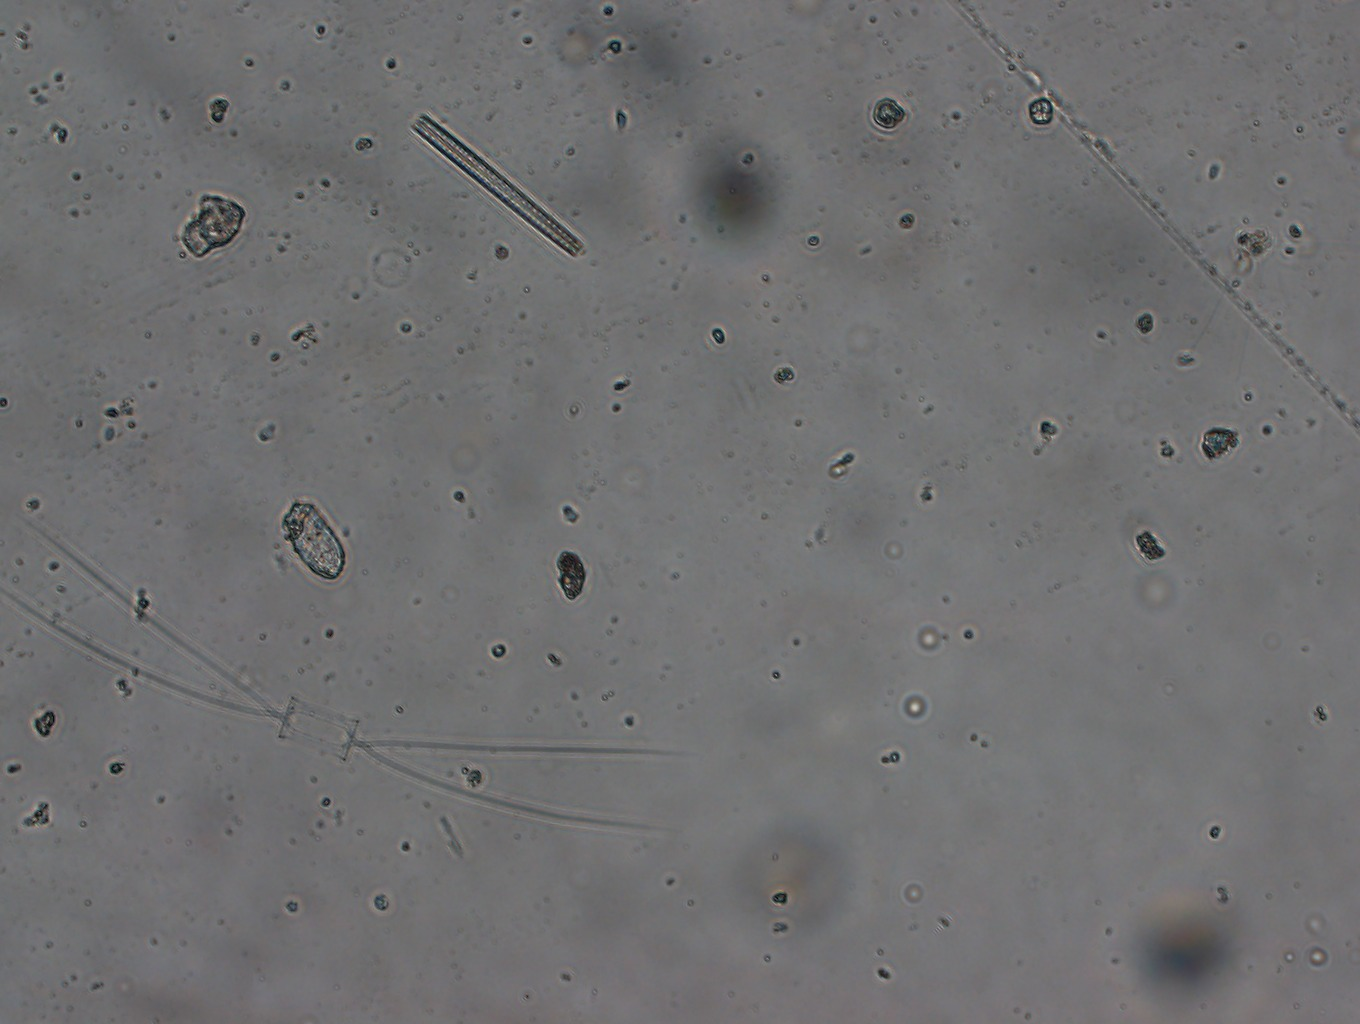chaetoceros: (1, 512, 701, 840)
